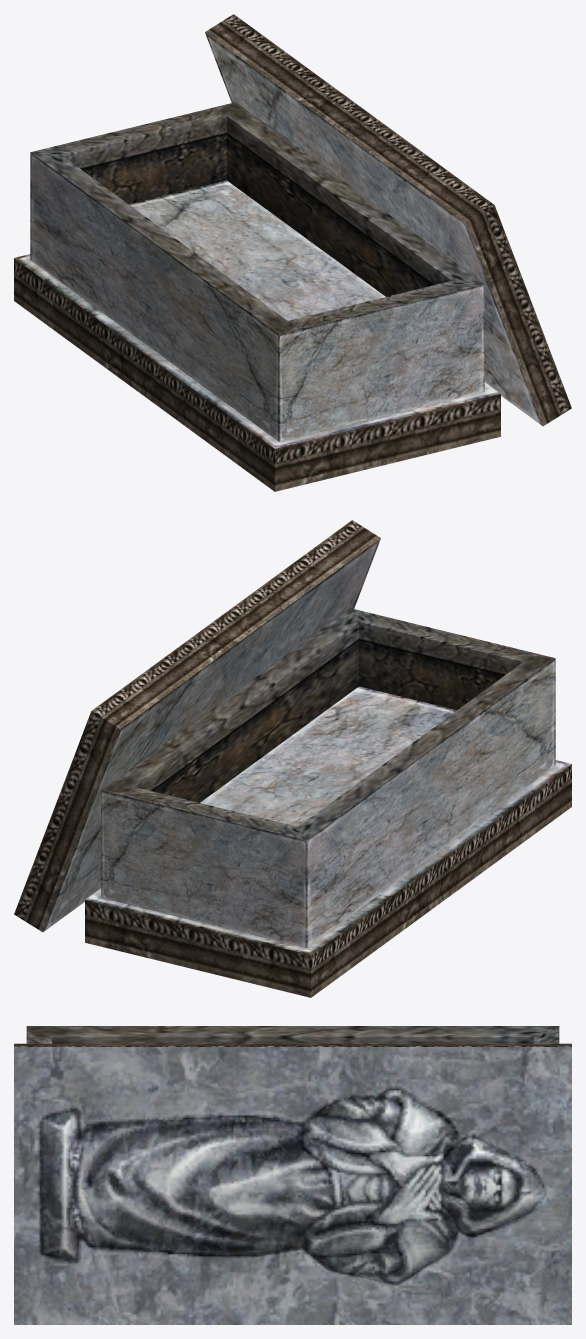
File: d_sark3.glb
3 views of the same model, one above another, from view 1: azimuth 30°, elevation 25°; view 2: azimuth 150°, elevation 25°; view 3: azimuth 270°, elevation 25° (orthographic). The views are drawn at different scales.
Visible parts, largest first — view 1: d_sark3-col; view 2: d_sark3-col; view 3: d_sark3-col.
Boxes of the visible parts, x1,y1,x2,y2 form: d_sark3-col: (14, 14, 571, 491); d_sark3-col: (14, 520, 571, 997); d_sark3-col: (14, 1026, 571, 1324).
Bounding box in the file's own units: 1.45 × 1.09 × 2.2.
3 materials, 3 textured.
